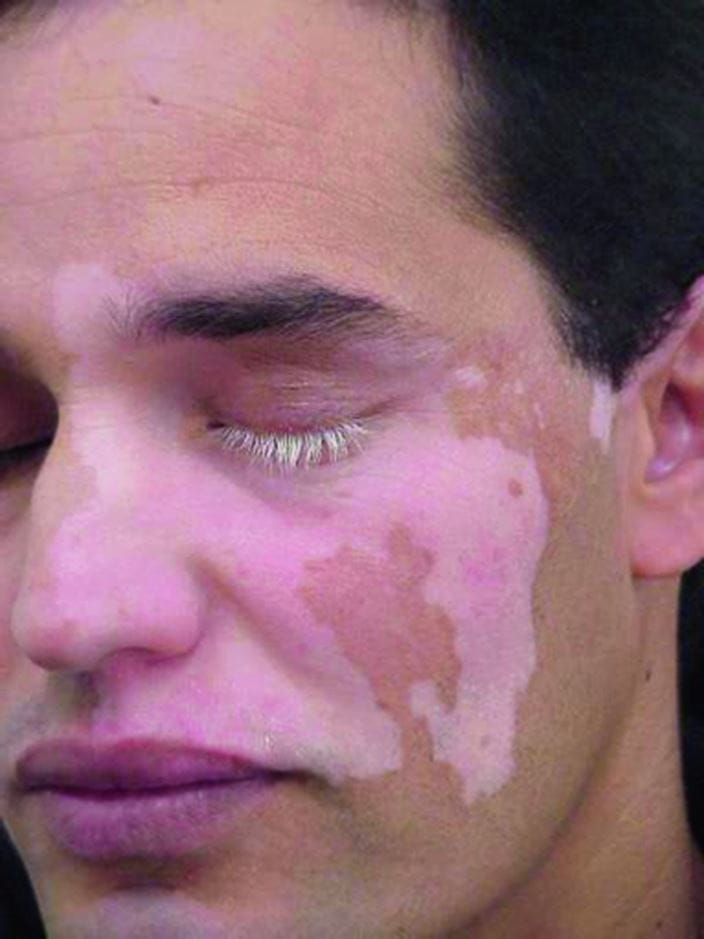Vitiligo: (35, 241, 627, 840)
